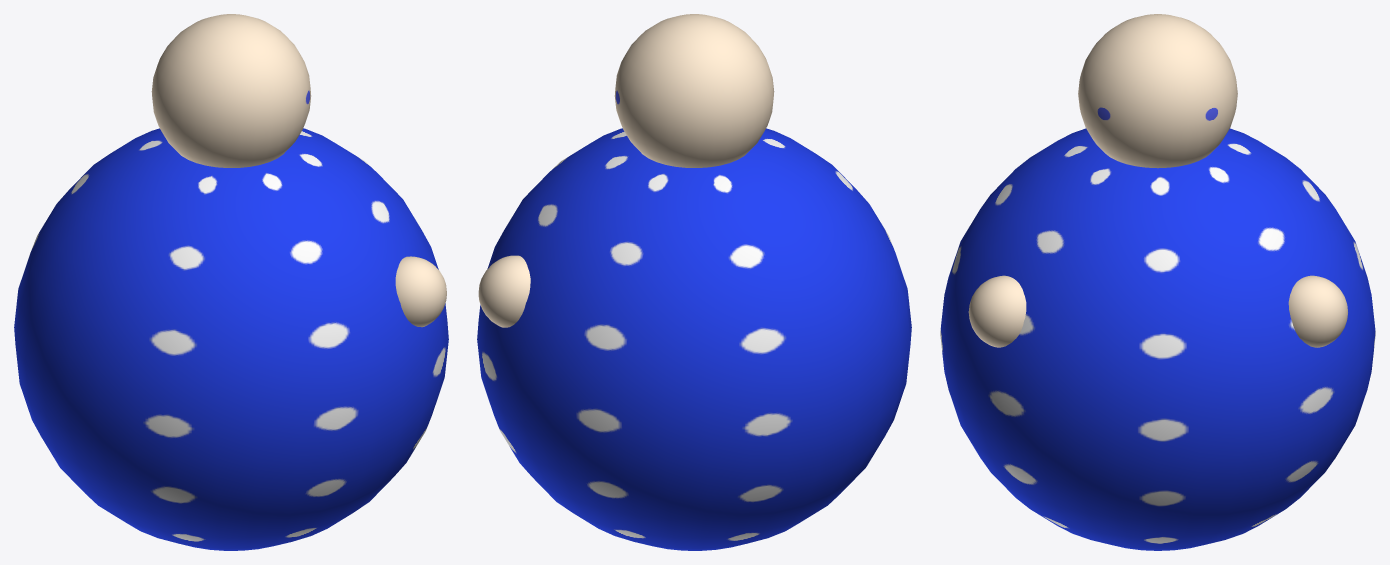
Rendered from adulte.gltf.
3 renders of one model, left to right at view 1: azimuth 30°, elevation 25°; view 2: azimuth 150°, elevation 25°; view 3: azimuth 270°, elevation 25°, orthographic.
Visible parts, largest first — view 1: Sphere, Sphere.001, Sphere.003; view 2: Sphere, Sphere.001, Sphere.002; view 3: Sphere, Sphere.001, Sphere.002, Sphere.003.
Part boxes in pixels (x1,y1,x2,y2): Sphere: (14, 128, 448, 550); Sphere.001: (151, 14, 311, 167); Sphere.003: (395, 256, 446, 327); Sphere: (477, 128, 911, 550); Sphere.001: (614, 14, 774, 167); Sphere.002: (478, 255, 530, 327); Sphere: (940, 128, 1375, 550); Sphere.001: (1078, 14, 1237, 168); Sphere.002: (1288, 275, 1347, 347); Sphere.003: (968, 275, 1026, 347).
Bounding box in the file's own units: 2 × 2.58 × 2.
1 material, 1 textured.
